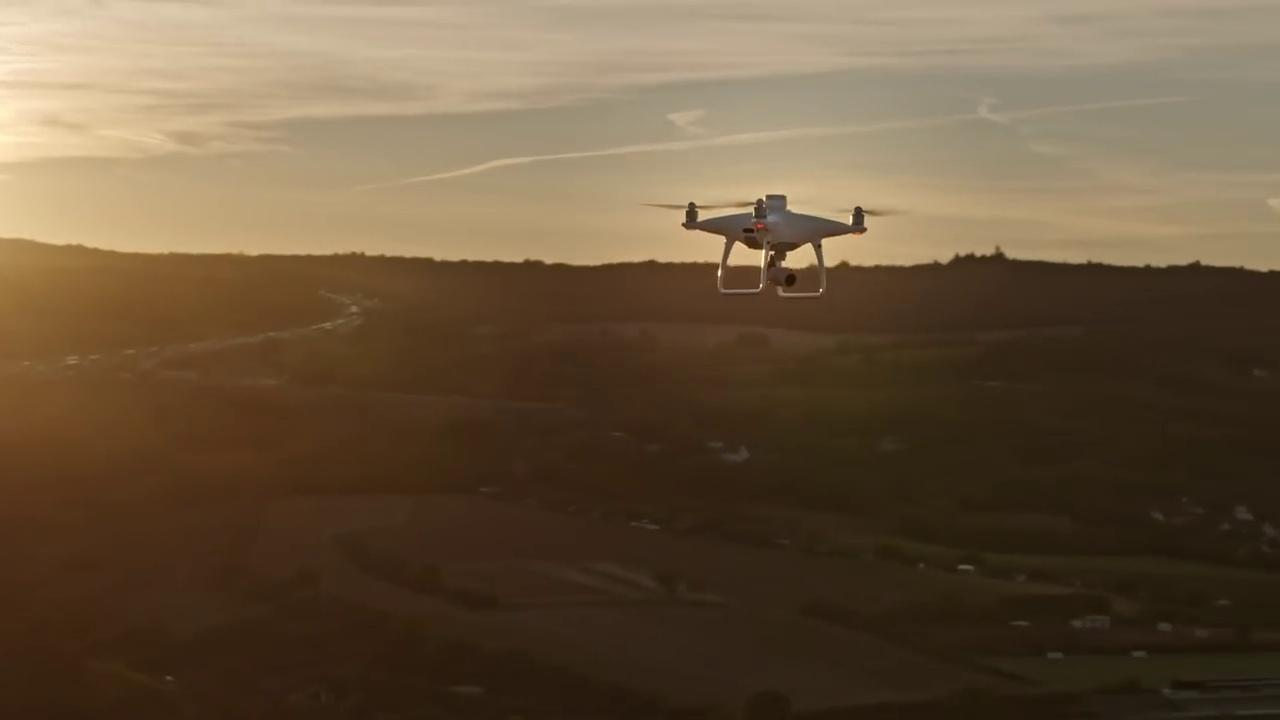drone: (632, 191, 905, 300)
